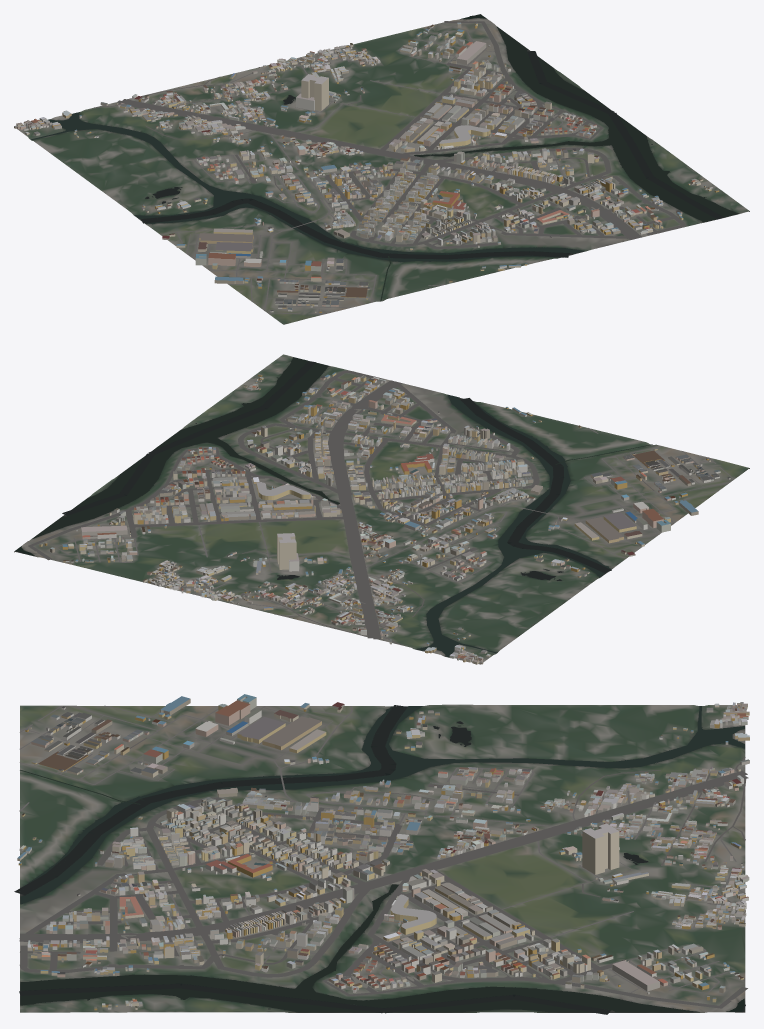
The picture shows the model from 3 angles, top to bottom: view 1: azimuth 30°, elevation 25°; view 2: azimuth 150°, elevation 25°; view 3: azimuth 270°, elevation 25°; orthographic projection. The views are drawn at different scales.
Parts seen in each view (by area): view 1: ground, buildings, roads, water; view 2: ground, buildings, roads, water; view 3: ground, buildings, water, roads.
Boxes of the visible parts, bbox=[...] form: ground: bbox=[16, 18, 749, 324]; buildings: bbox=[14, 22, 719, 312]; roads: bbox=[26, 21, 685, 314]; water: bbox=[31, 14, 738, 301]; ground: bbox=[14, 354, 749, 664]; buildings: bbox=[39, 372, 730, 664]; roads: bbox=[28, 370, 734, 659]; water: bbox=[15, 357, 652, 657]; ground: bbox=[20, 704, 745, 1012]; buildings: bbox=[17, 694, 749, 1010]; water: bbox=[14, 705, 745, 1014]; roads: bbox=[19, 705, 748, 1008].
Size of the model in its own units: 1437 by 83.7 by 1421.
